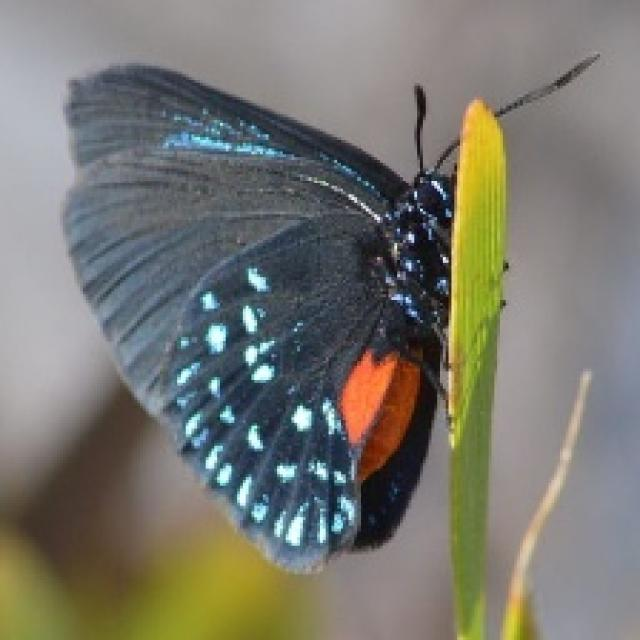butterfly: (57, 49, 600, 574)
